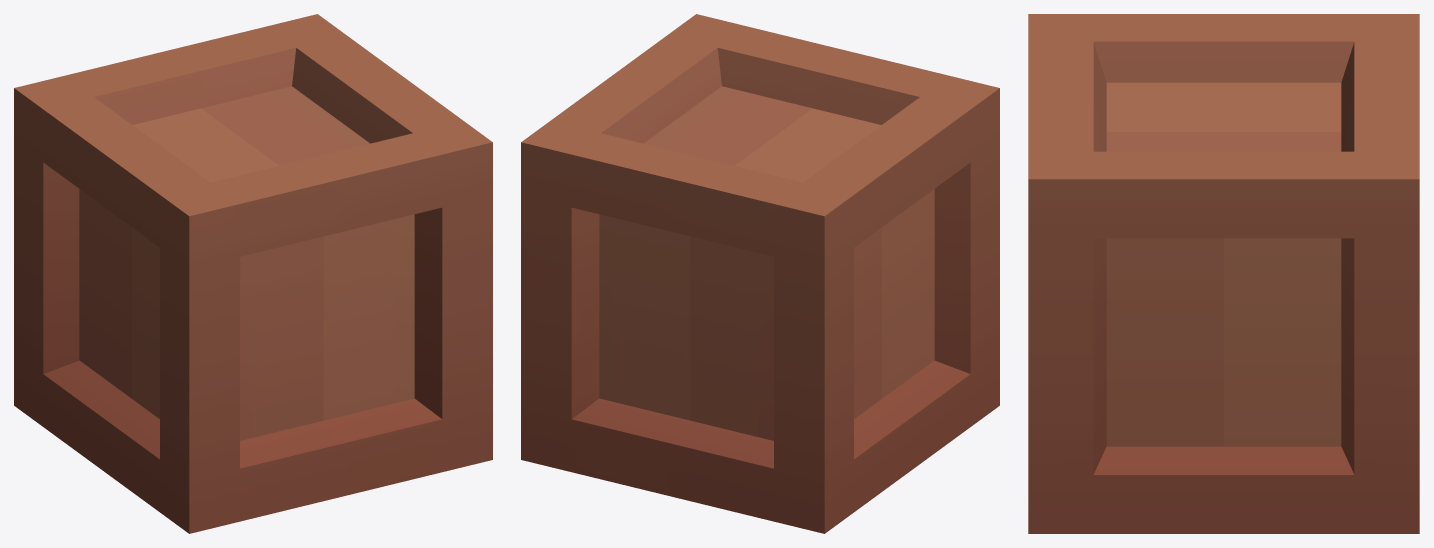
File: crate.glb
The picture shows the model from 3 angles, left to right: view 1: azimuth 30°, elevation 25°; view 2: azimuth 150°, elevation 25°; view 3: azimuth 270°, elevation 25°; orthographic projection. The views are drawn at different scales.
Visible parts, largest first — view 1: crate_A_big; view 2: crate_A_big; view 3: crate_A_big.
Boxes of the visible parts, bbox=[...] form: crate_A_big: bbox=[14, 14, 492, 533]; crate_A_big: bbox=[521, 14, 999, 533]; crate_A_big: bbox=[1028, 14, 1419, 533].
Size of the model in its own units: 0.21 by 0.21 by 0.21.
Materials: 1 (1 with a texture image).
